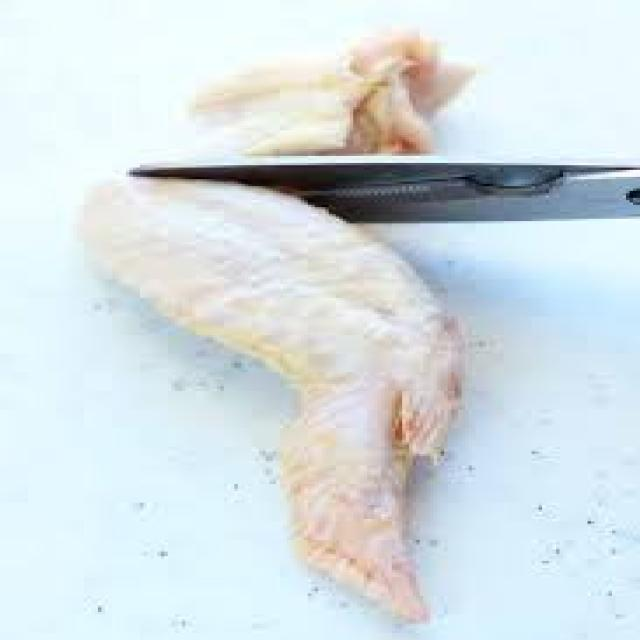wing: (70, 31, 501, 602)
